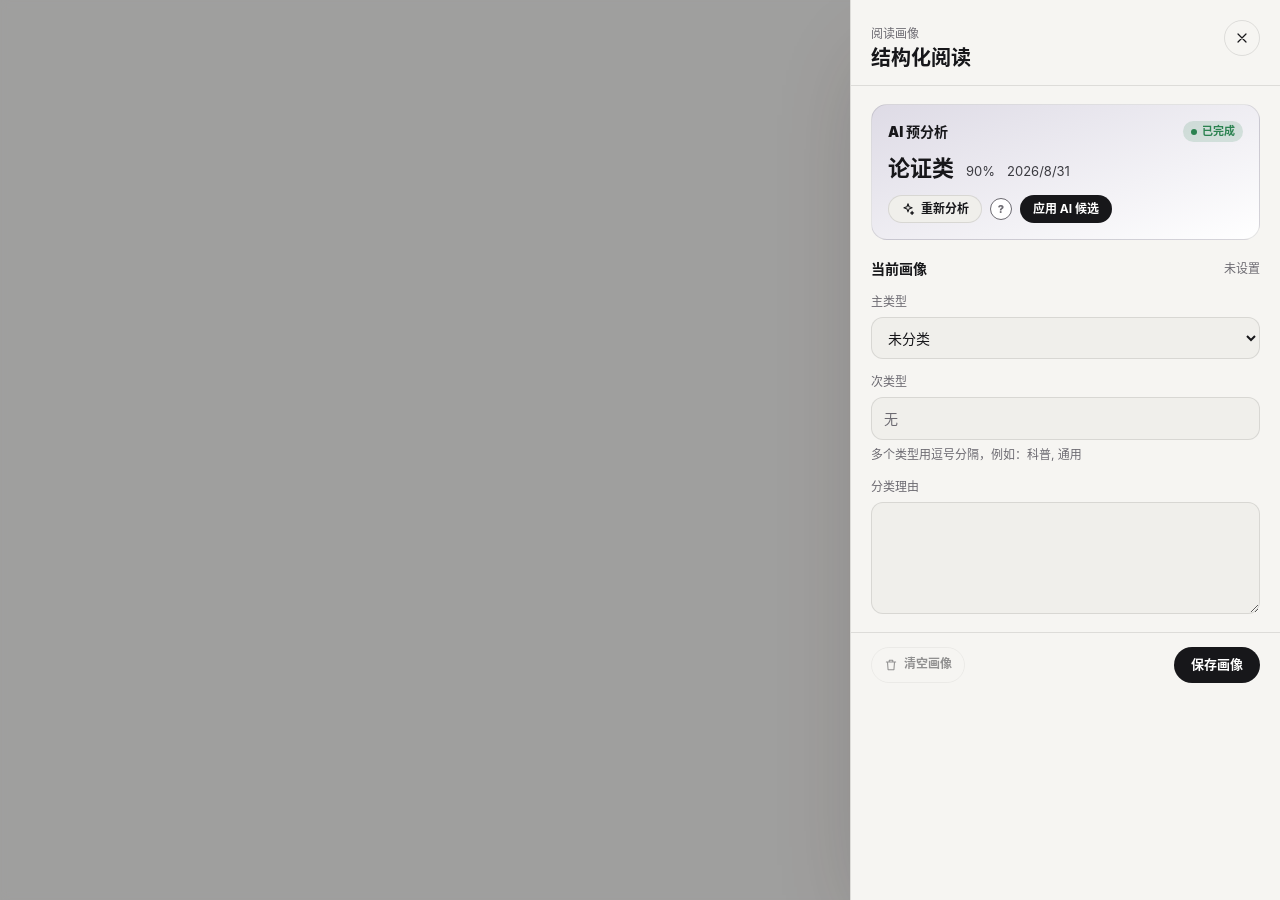
Test case: 画像抽屉：你自己的操作失败时能看到错误提示 › N12 保存画像失败 → 抽屉里显示错误提示，不当作成功
The width and height of the screenshot is (1280, 900).
Click the button "保存画像" at (1217,665), box [1174,647,1260,683]
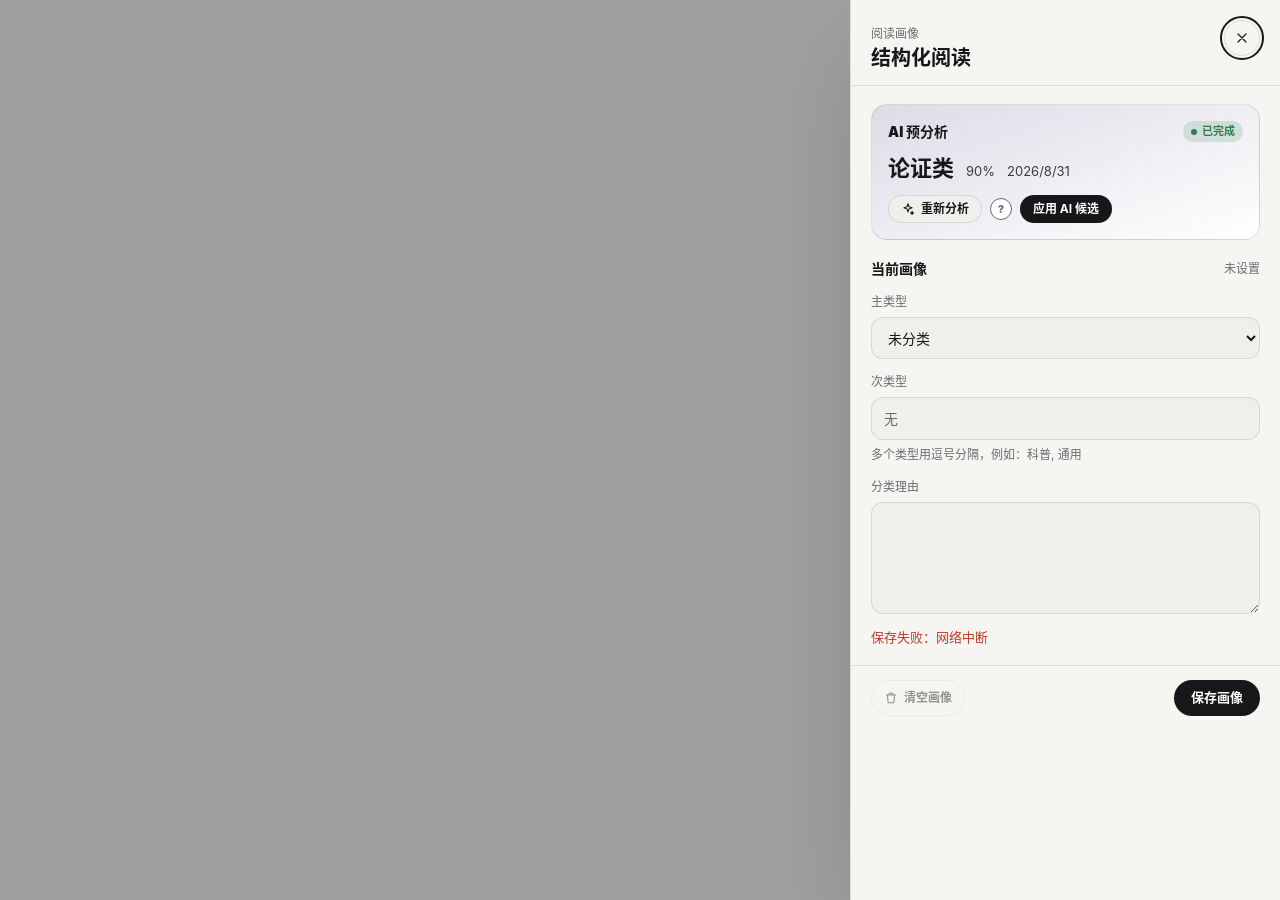
Check: the message "保存失败：网络中断" is shown, box [871,629,988,645]
